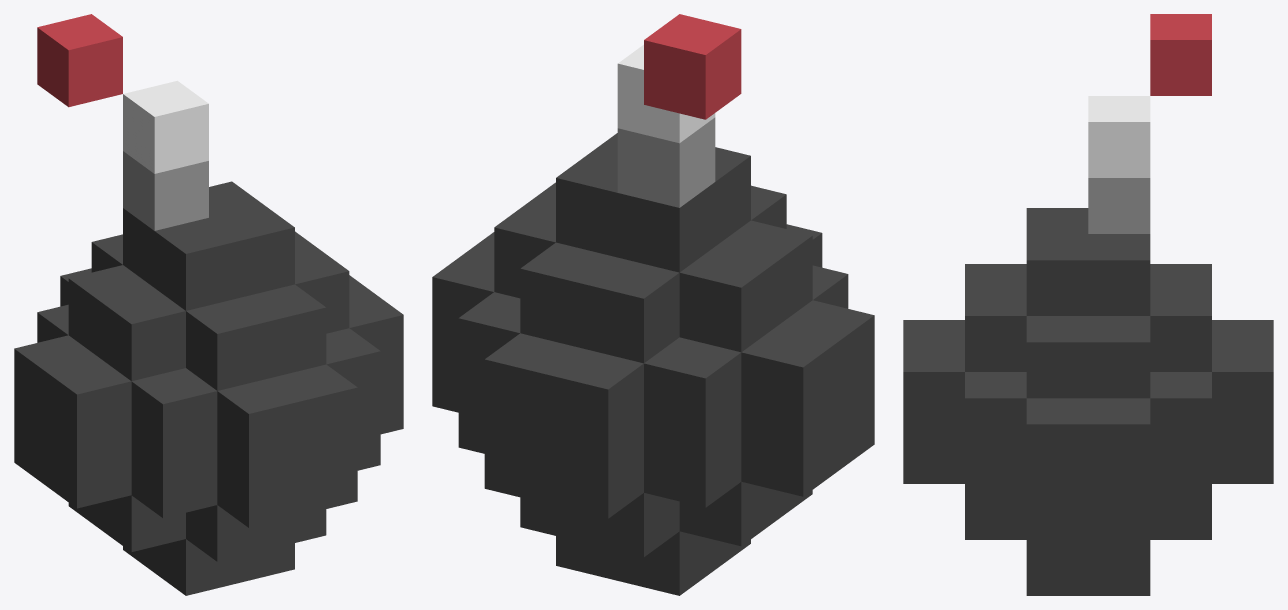
File: bomb.dae
3 renders of one model, left to right at view 1: azimuth 30°, elevation 25°; view 2: azimuth 150°, elevation 25°; view 3: azimuth 270°, elevation 25°, orthographic. The views are drawn at different scales.
Parts seen in each view (by area): view 1: PlaneCOL; view 2: PlaneCOL; view 3: PlaneCOL.
Boxes of the visible parts, x1=… form: PlaneCOL: x1=14, y1=14, x2=403, y2=595; PlaneCOL: x1=432, y1=14, x2=874, y2=595; PlaneCOL: x1=903, y1=14, x2=1273, y2=595.
Bounding box in the file's own units: 0.6 × 0.6 × 0.9.
